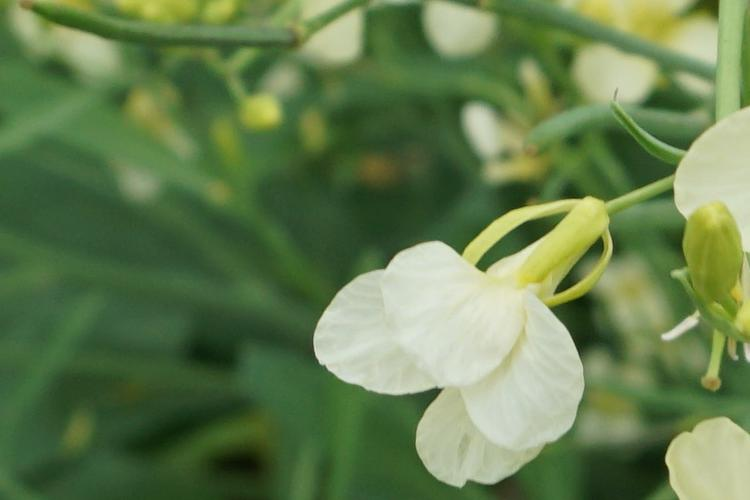bud: (679, 210, 749, 305)
white: (323, 195, 613, 468), (687, 114, 750, 224), (671, 419, 750, 498)
